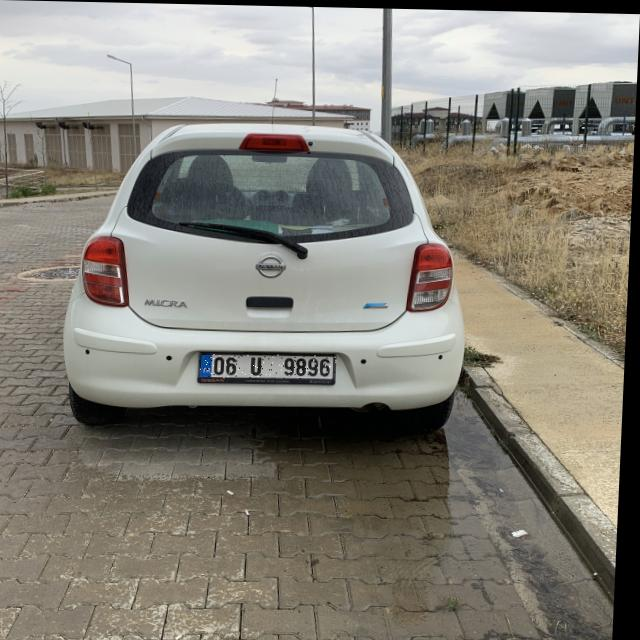license_plate: (201, 352, 340, 379)
